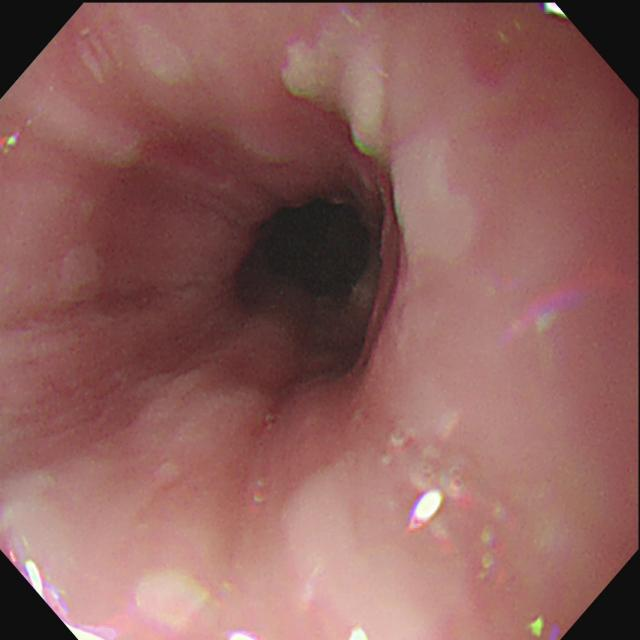E: (238, 195, 370, 311)
J: (281, 29, 390, 161)
U: (11, 551, 115, 640), (407, 490, 444, 533), (542, 3, 570, 22), (528, 616, 547, 638), (229, 629, 261, 640), (346, 627, 373, 640)
